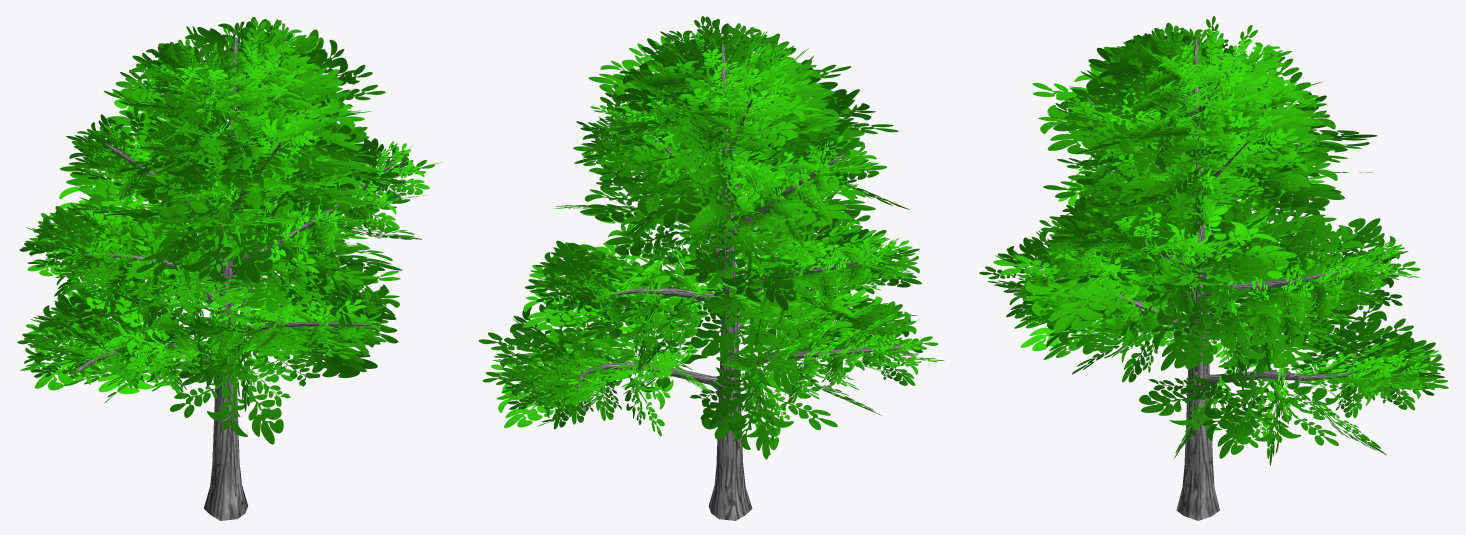
Rendered from anime_nature_tree_01.glb.
3 views of the same model, side by side, from view 1: azimuth 30°, elevation 25°; view 2: azimuth 150°, elevation 25°; view 3: azimuth 270°, elevation 25° (orthographic). The views are drawn at different scales.
Visible parts, largest first — view 1: Tree01_jbm_m; view 2: Tree01_jbm_m; view 3: Tree01_jbm_m.
Part boxes in pixels (box(x1,y1,x2,y2)): Tree01_jbm_m: box(17, 17, 442, 520); Tree01_jbm_m: box(478, 16, 944, 520); Tree01_jbm_m: box(979, 16, 1448, 520).
Bounding box in the file's own units: 11.2 × 13.13 × 11.6.
Materials: 2 (2 with a texture image).
